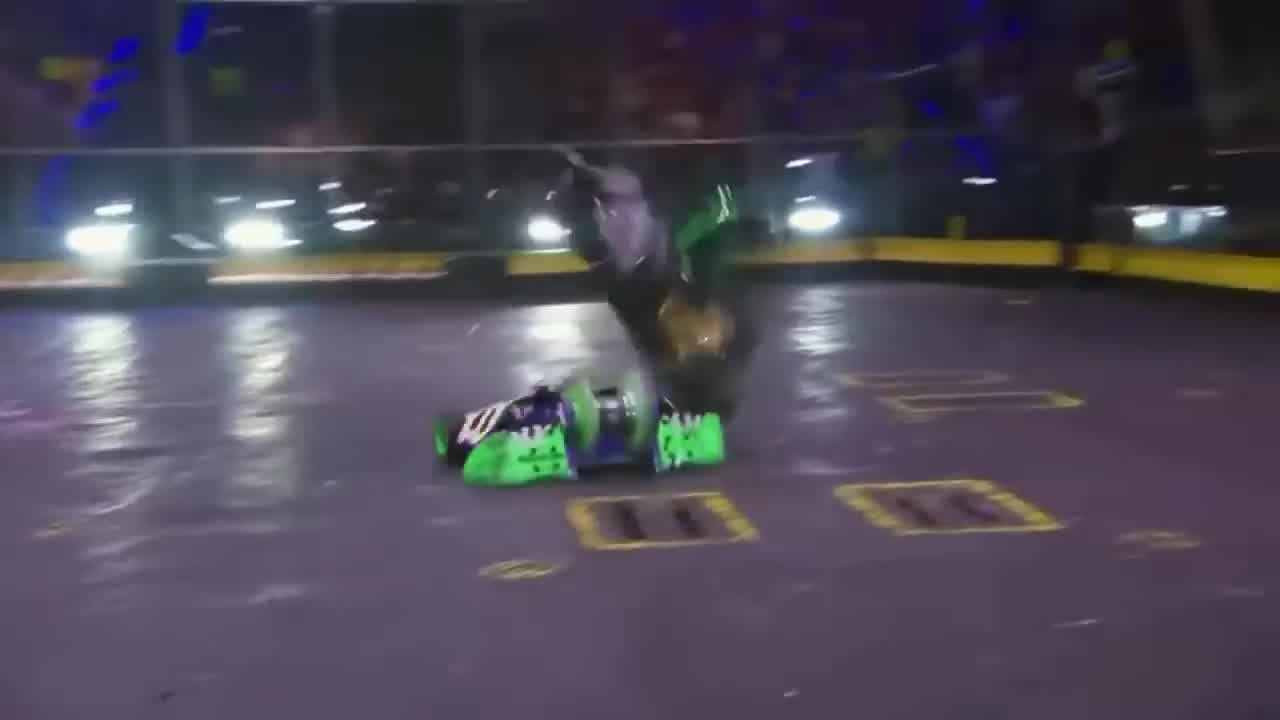combatbot: (534, 143, 757, 425), (433, 385, 712, 487)
